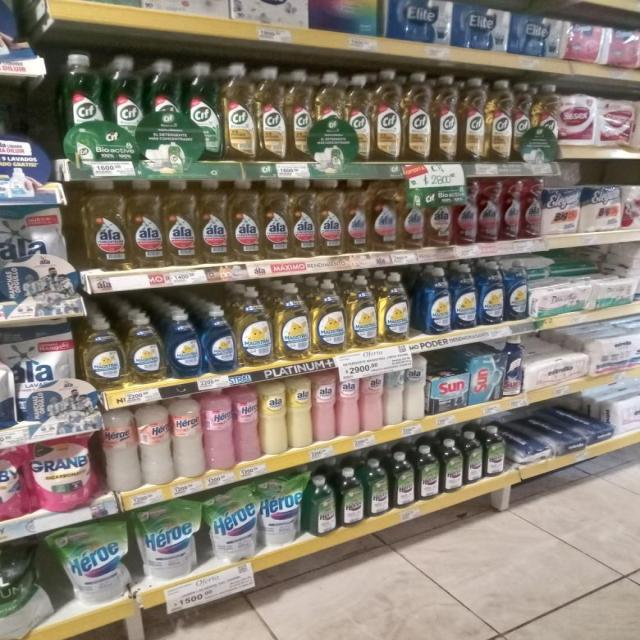ala_conc_amarillo: (85, 180, 127, 271), (129, 180, 163, 269), (165, 180, 197, 267), (198, 180, 229, 264), (230, 180, 261, 262), (262, 179, 289, 260), (317, 178, 344, 256), (290, 180, 316, 258), (371, 178, 398, 252), (344, 179, 368, 254), (400, 180, 425, 251), (427, 182, 452, 248)
ala_conc_rojo: (453, 180, 477, 246), (479, 177, 502, 243), (502, 176, 522, 241), (522, 176, 542, 239)
ala_crem_amarillo: (260, 380, 286, 455), (288, 375, 312, 449)
ala_crem_blanco: (405, 354, 427, 422), (385, 360, 404, 426)
ala_crem_rosado: (313, 371, 336, 443), (337, 370, 360, 437), (361, 366, 384, 432)
cif_conc_bot_amarilla: (222, 63, 255, 163), (314, 70, 346, 164), (256, 67, 286, 163), (373, 69, 401, 164), (403, 71, 432, 162), (287, 68, 313, 164), (433, 74, 459, 164), (460, 76, 486, 163), (347, 73, 371, 163), (487, 78, 512, 163), (534, 83, 558, 161), (513, 81, 532, 162)
cif_conc_botella_verde: (62, 53, 104, 173), (144, 58, 184, 168), (106, 54, 143, 170), (185, 62, 221, 164)
heroe: (138, 398, 172, 486), (173, 392, 203, 480), (204, 387, 233, 471), (234, 383, 259, 463)
magistral_con_amarillo: (83, 314, 125, 389), (237, 285, 273, 367), (275, 282, 310, 361), (127, 311, 164, 384), (312, 278, 345, 356), (378, 271, 411, 343), (348, 274, 377, 349)
magistral_con_azul: (167, 307, 201, 379), (203, 305, 236, 374), (420, 266, 451, 335), (452, 263, 477, 330), (479, 261, 504, 325)
